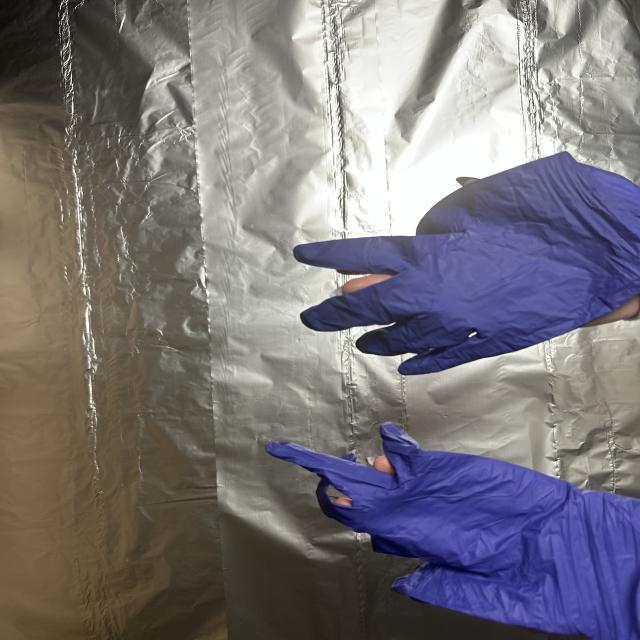glove_not_fitted: (253, 416, 640, 640), (290, 148, 640, 378)
